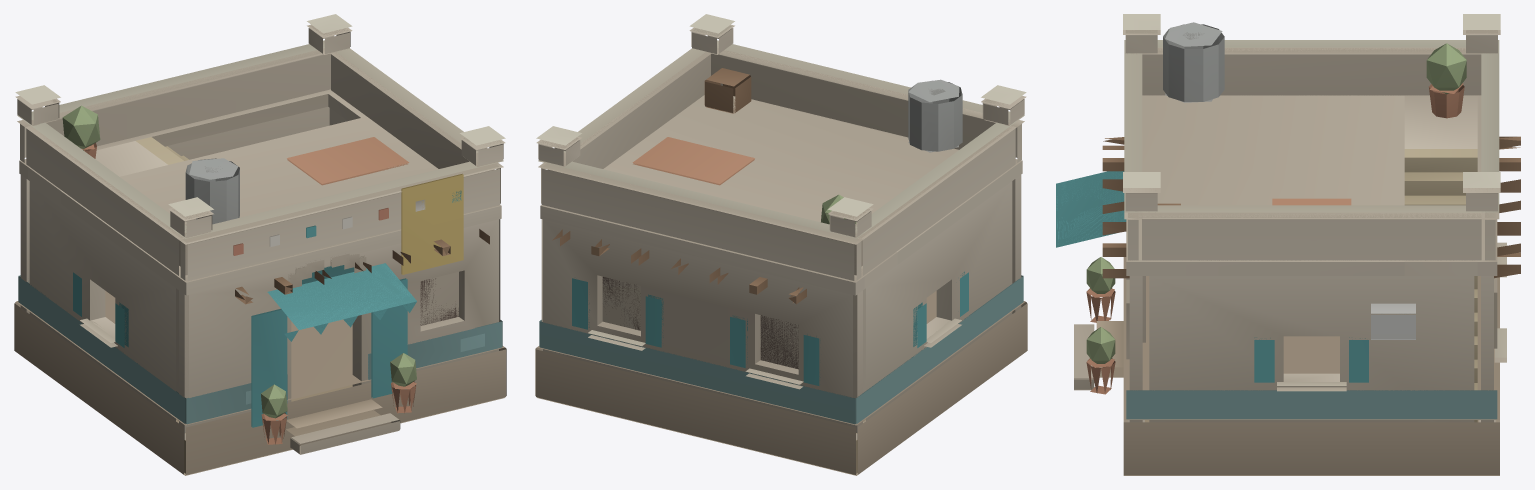
The model's file is house_0.lod.glb.
The picture shows the model from 3 angles, left to right: view 1: azimuth 30°, elevation 25°; view 2: azimuth 150°, elevation 25°; view 3: azimuth 270°, elevation 25°; orthographic projection. The views are drawn at different scales.
Parts seen in each view (by area): view 1: house_0; view 2: house_0; view 3: house_0.
Part boxes in pixels (x1,y1,x2,y2): house_0: (14,14,506,475); house_0: (535,14,1027,475); house_0: (1056,14,1520,475).
Size of the model in its own units: 7.83 by 6 by 8.27.
